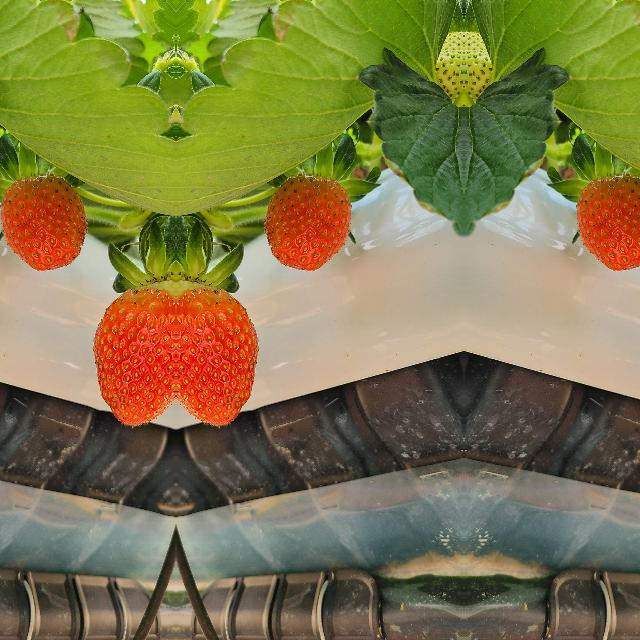Health_100: (174, 289, 260, 427), (90, 289, 176, 427), (262, 172, 352, 272), (0, 172, 87, 271), (574, 172, 640, 271)
